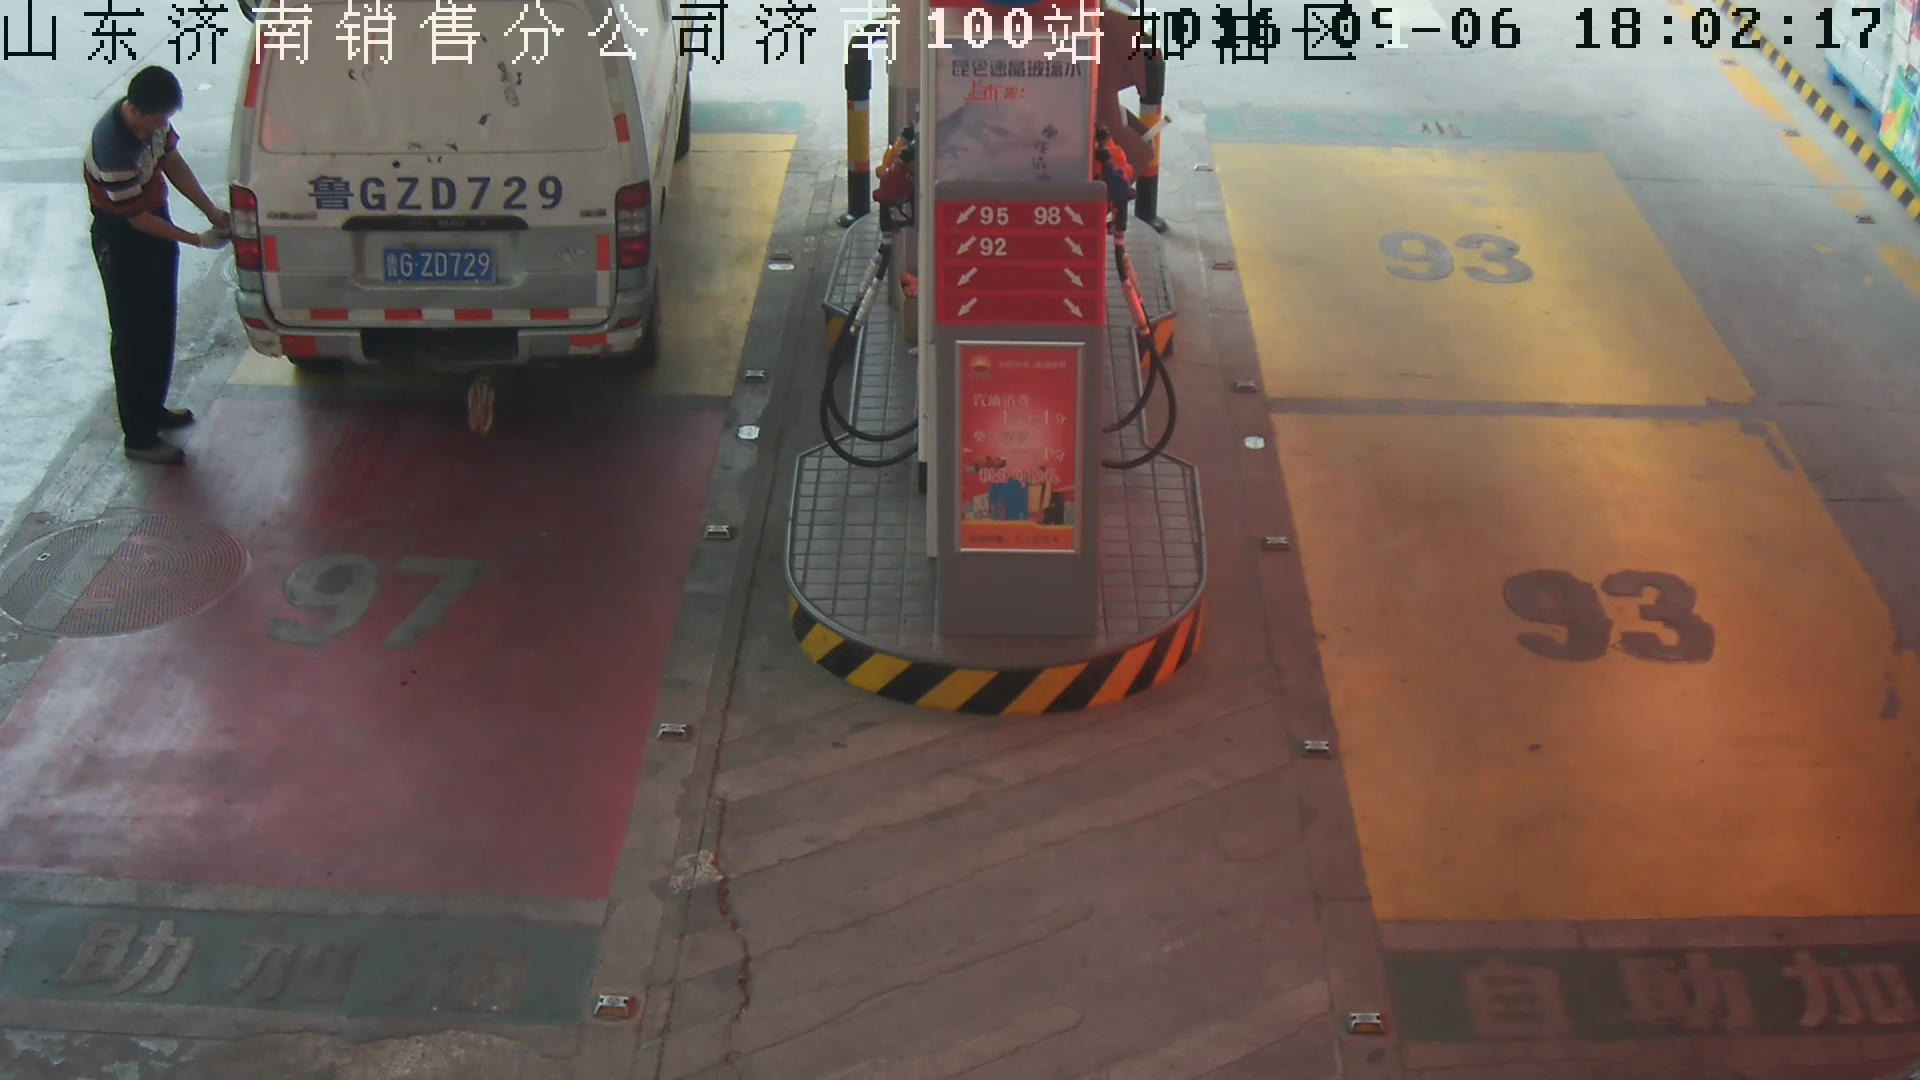blue: (381, 245, 498, 291)
